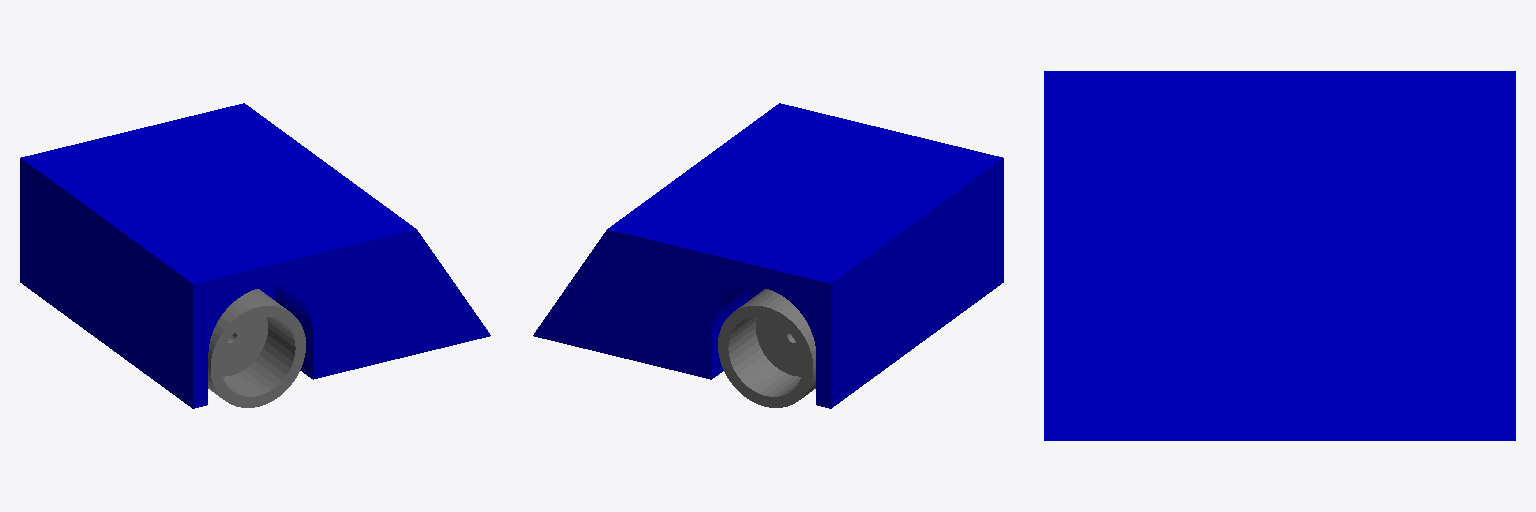
URDF robot description (minisumo):
<?xml version="1.0" ?>

<robot name="minisumo">

  <!-- <link name="map"/>

  <joint name="base_joint" type="continuous">
    <parent link="map"/>
    <child link="chasis"/>
  </joint> -->

<!-- Definición de materiales -->
	
  <material name="blue">
    <color rgba="0 0 0.8 1"/>
  </material>

  <material name="white">
    <color rgba="1 1 1 1"/>
  </material>
  
  <material name="l_gray">
    <color rgba="0.5 0.5 0.5 1"/>
  </material>

    <link name="chasis">
        <visual>
            
            <geometry>
                <mesh filename="package://rviz_ex/meshes/chasis_robot.stl" scale="0.01 0.01 0.01"/>
                <!-- <box size="0.25 0.25 1"/> -->
            </geometry>
            <material name="blue"/>
            <origin rpy="0 0 1.5707963268" xyz="0.275 0 0.05"/>

        </visual>
    </link>

    <link name="rueda_d">
      <visual>
        <geometry>
          <mesh filename="package://rviz_ex/meshes/rueda.stl" scale="0.01 0.01 0.01"/>
          <!-- <cylinder length="20" radius="15" /> -->
        </geometry>
        <material name="l_gray"/>
        <origin rpy="0 0 0" xyz="0 0 0"/>
      </visual>
    </link>

    <joint name="eje_d" type="continuous">
      <parent link="chasis"/>
      <child link="rueda_d"/>
      <origin rpy="0 0 0" xyz="0 -0.29 0.16"/>
      <axis xyz="0 1 0"/>
    </joint>

    <link name="rueda_i">
      <visual>
        <geometry>
          <mesh filename="package://rviz_ex/meshes/rueda.stl" scale="0.01 0.01 0.01"/>
          <!-- <cylinder length="20" radius="15" /> -->
        </geometry>
        <material name="l_gray"/>
        <origin rpy="0 0 0" xyz="0 0 0"/>
      </visual>
    </link>

    <joint name="eje_i" type="continuous">
      <parent link="chasis"/>
      <child link="rueda_i"/>
      <origin rpy="0 0 3.14159265359" xyz="0 0.29 0.16"/>
      <axis xyz="0 1 0"/>
    </joint>

</robot>

--- What the picture shows (computed from the rendered views, not written in the file) ---
3 views of the same robot in one strip: view 1: azimuth 30°, elevation 25°; view 2: azimuth 150°, elevation 25°; view 3: azimuth 270°, elevation 25° (orthographic).
Model minisumo with 3 links and 2 joints (2 continuous), rooted at chasis, posed all joints at 0.
Links seen in each view (by area): view 1: chasis, rueda_d; view 2: chasis, rueda_i; view 3: chasis.
Link boxes in pixels (x1,y1,x2,y2): chasis: [20, 103, 490, 408]; rueda_d: [208, 289, 305, 407]; chasis: [533, 103, 1003, 408]; rueda_i: [718, 289, 815, 407]; chasis: [1044, 71, 1515, 440].
Bounding box of the posed robot: 1 × 1 × 0.45 m (x, y, z).
Meshes: 2 distinct files referenced, 3 mesh visuals loaded (2 ASCII STL).
